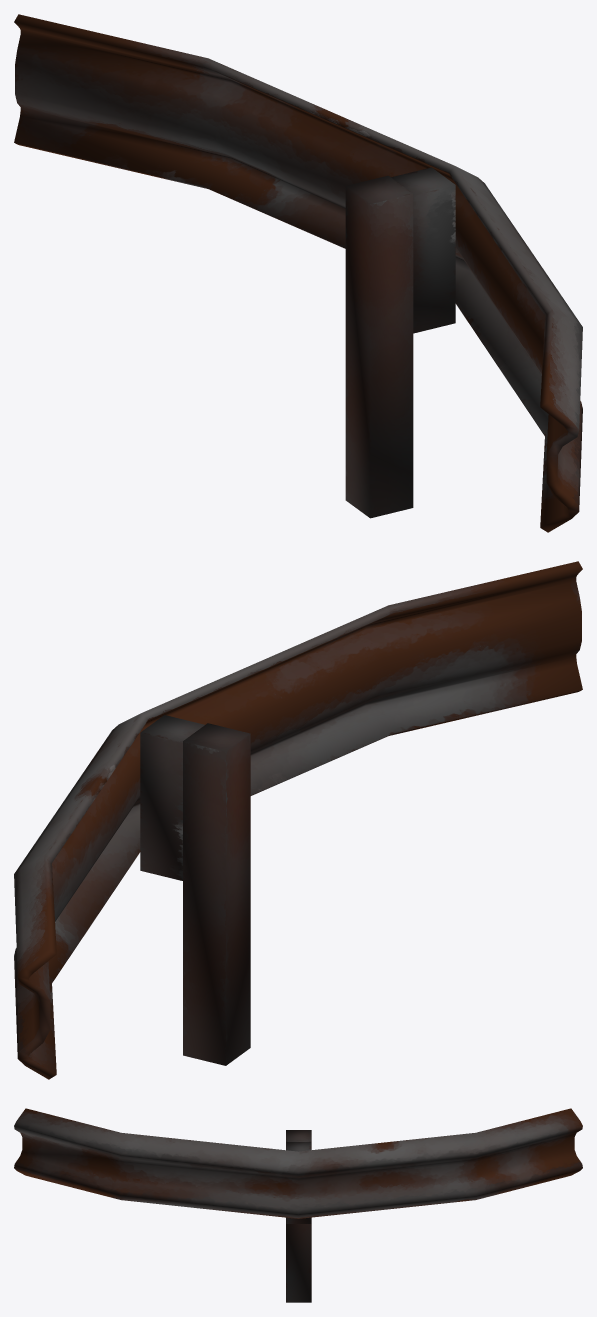
File: Segment#2(CornerOutward).fbx
3 views of the same model, one above another, from view 1: azimuth 30°, elevation 25°; view 2: azimuth 150°, elevation 25°; view 3: azimuth 270°, elevation 25° (orthographic). The views are drawn at different scales.
Parts seen in each view (by area): view 1: Plane.002, Plane.001; view 2: Plane.002, Plane.001; view 3: Plane.002, Plane.001.
Part boxes in pixels (left/top/right/bottom): Plane.002: left=14, top=14, right=582, bottom=532; Plane.001: left=345, top=167, right=455, bottom=518; Plane.002: left=14, top=561, right=582, bottom=1079; Plane.001: left=140, top=715, right=250, bottom=1065; Plane.002: left=14, top=1108, right=582, bottom=1218; Plane.001: left=286, top=1130, right=311, bottom=1302.
Size of the model in its own units: 59.26 by 87.18 by 273.
